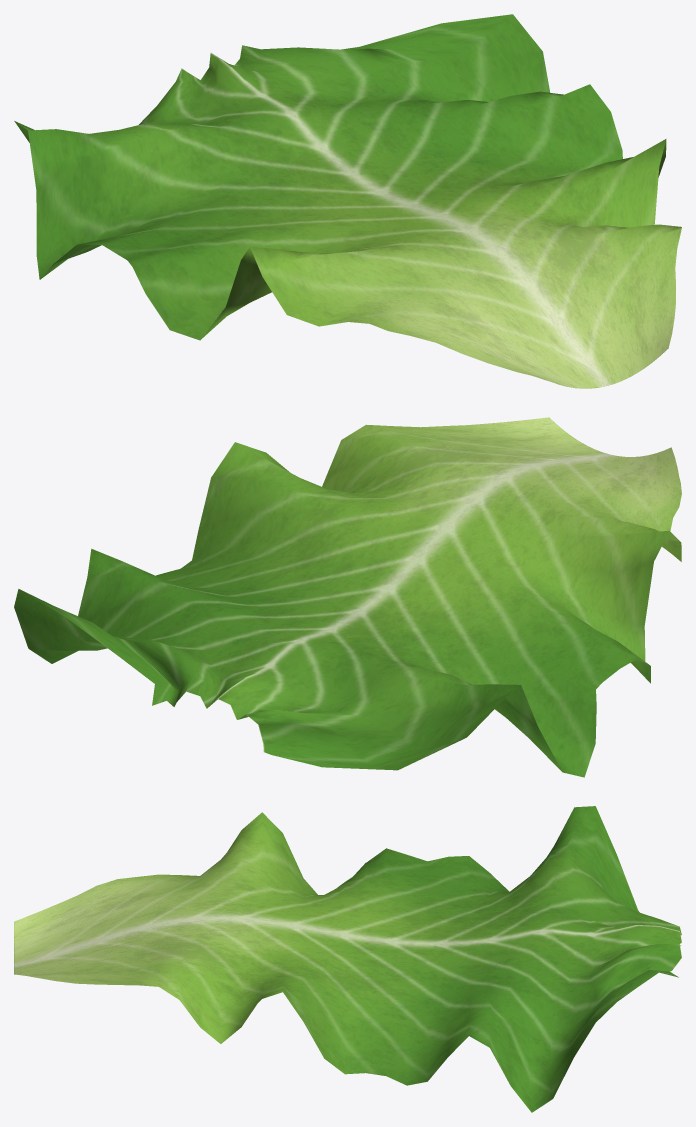
The model's file is lettuce.glb.
3 views of the same model, one above another, from view 1: azimuth 30°, elevation 25°; view 2: azimuth 150°, elevation 25°; view 3: azimuth 270°, elevation 25° (orthographic). The views are drawn at different scales.
Visible parts, largest first — view 1: lettuce_mesh; view 2: lettuce_mesh; view 3: lettuce_mesh.
Boxes of the visible parts, box(x1,y1,x2,y2) form: lettuce_mesh: box(14, 14, 681, 388); lettuce_mesh: box(14, 417, 681, 777); lettuce_mesh: box(14, 806, 681, 1112).
Bounding box in the file's own units: 0.1305 × 0.0303 × 0.1665.
Materials: 1 (1 with a texture image).
